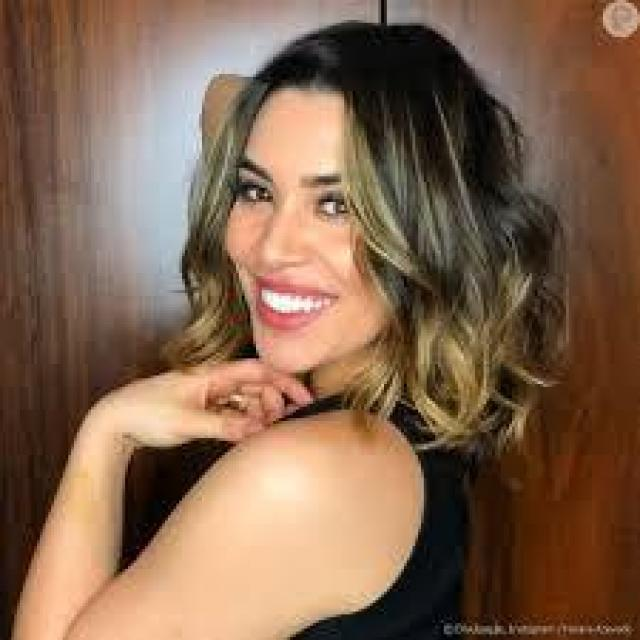person: (26, 26, 534, 637)
